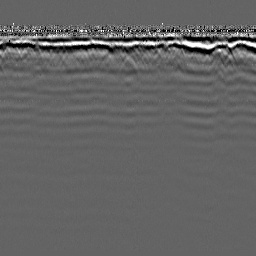cavity: (118, 53, 138, 72)
